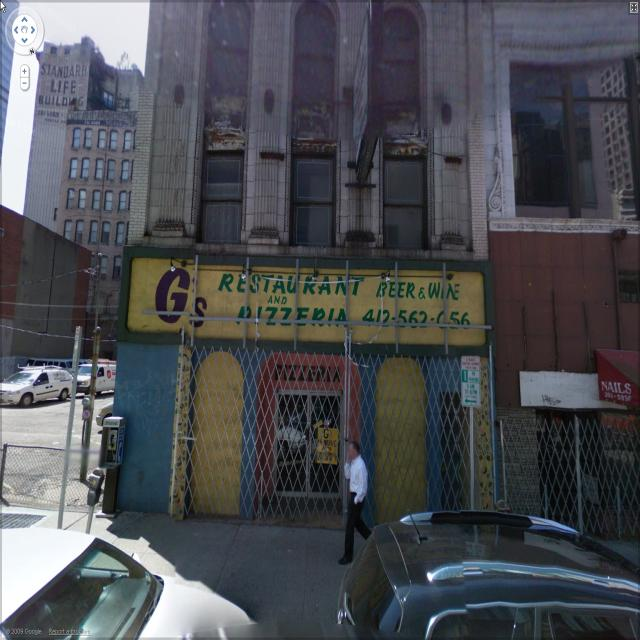b_1: (104, 3, 492, 491), (499, 10, 640, 500), (52, 119, 136, 299), (20, 45, 96, 232)
